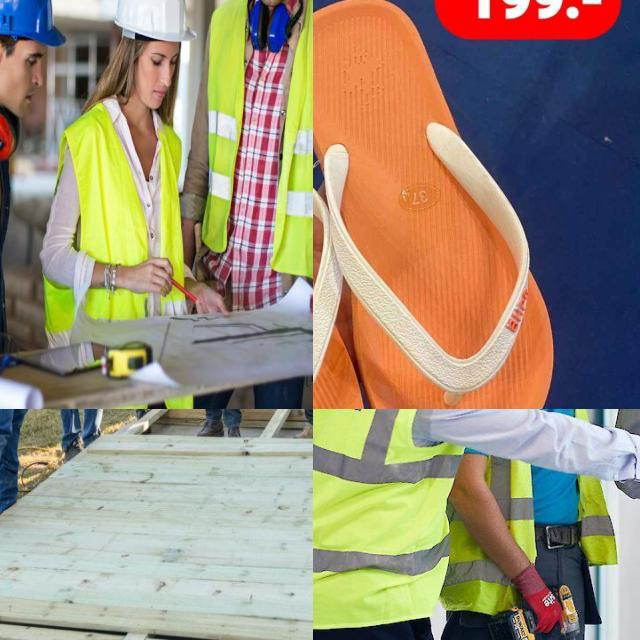Sandals: (313, 0, 589, 409)
face_nomask: (113, 43, 180, 118), (0, 42, 47, 131)
hand_glove: (504, 556, 575, 636)
hand_noglove: (136, 248, 177, 301)
head_helmet: (0, 0, 67, 54), (112, 0, 196, 42)
person: (68, 0, 214, 345), (174, 0, 313, 296), (313, 409, 476, 640), (456, 409, 610, 640), (0, 0, 57, 379)
vest: (453, 409, 640, 640), (314, 409, 464, 628), (214, 6, 313, 296), (76, 110, 196, 335)
